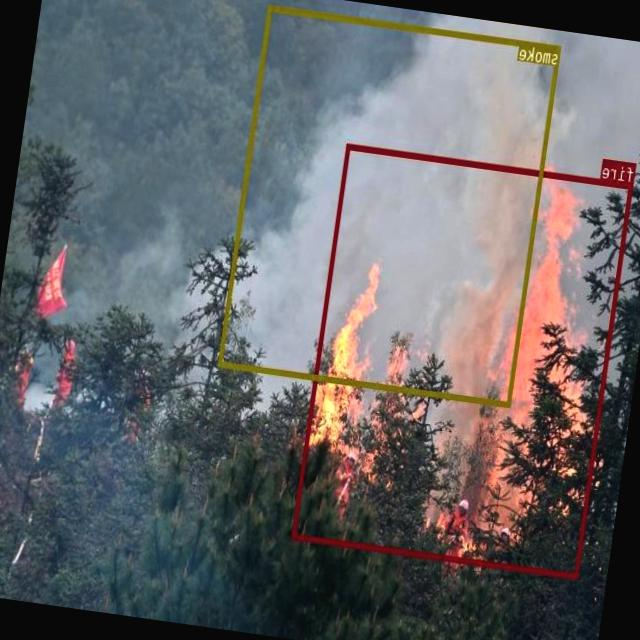fire: (292, 143, 634, 579)
smoke: (219, 5, 562, 408)
